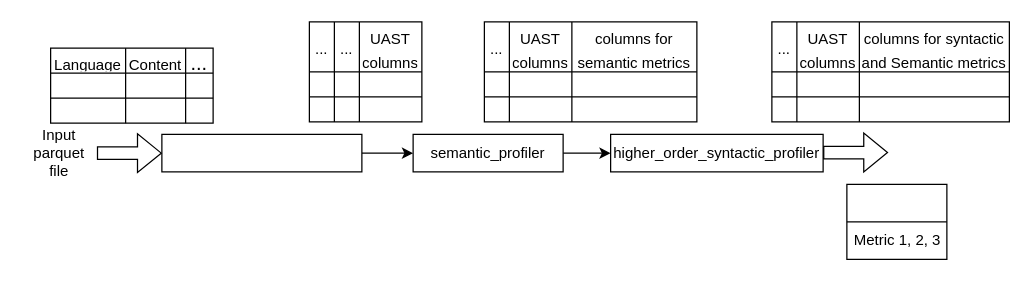
Image size: 1031x281. Some labels were removed from this diagram. Each missing label, with the box of its shape:
Metric Report: (846, 183, 947, 259)
syntactic_concept_extractor: (161, 133, 362, 172)
